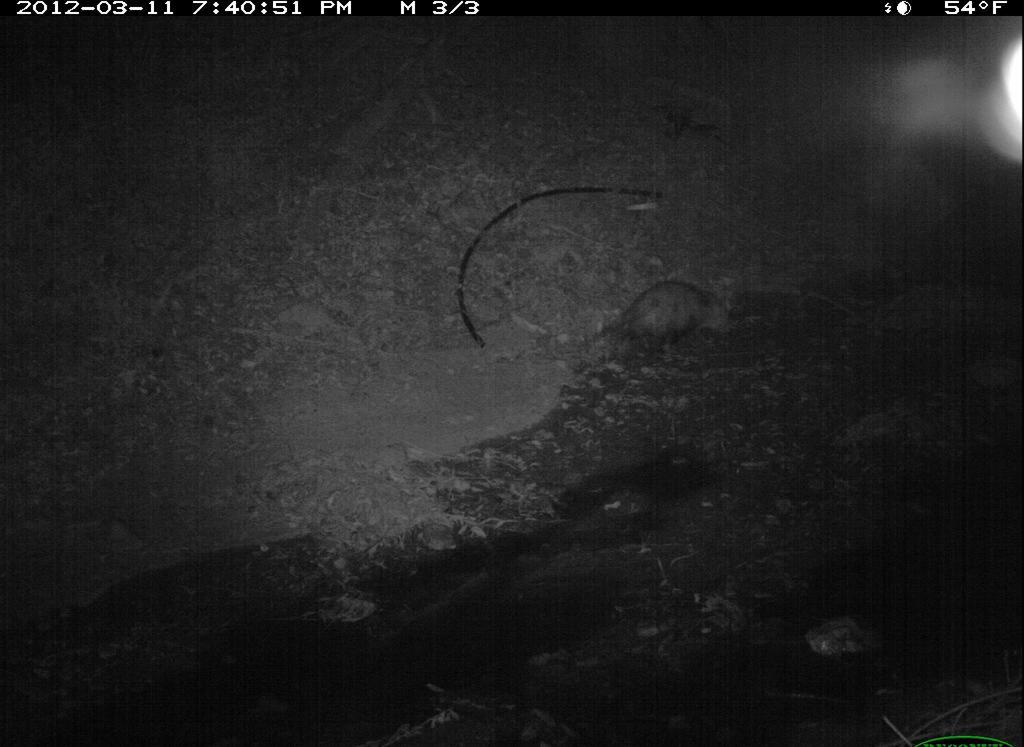opossum: (579, 281, 743, 364)
